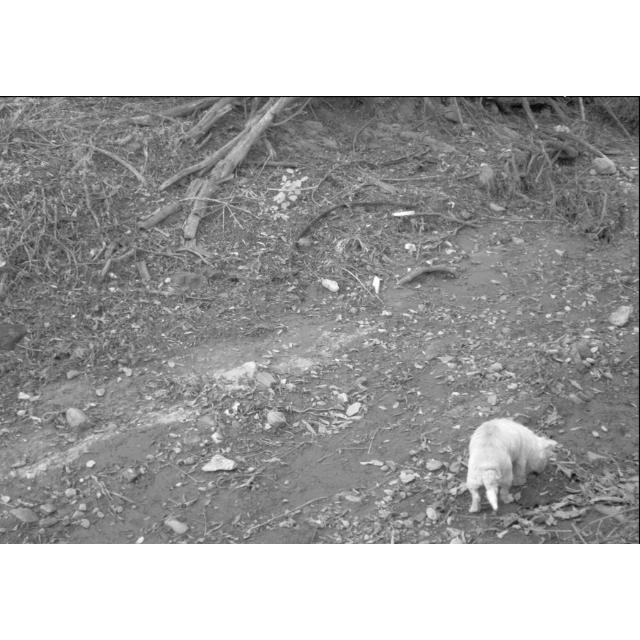animals: (455, 408, 567, 520)
